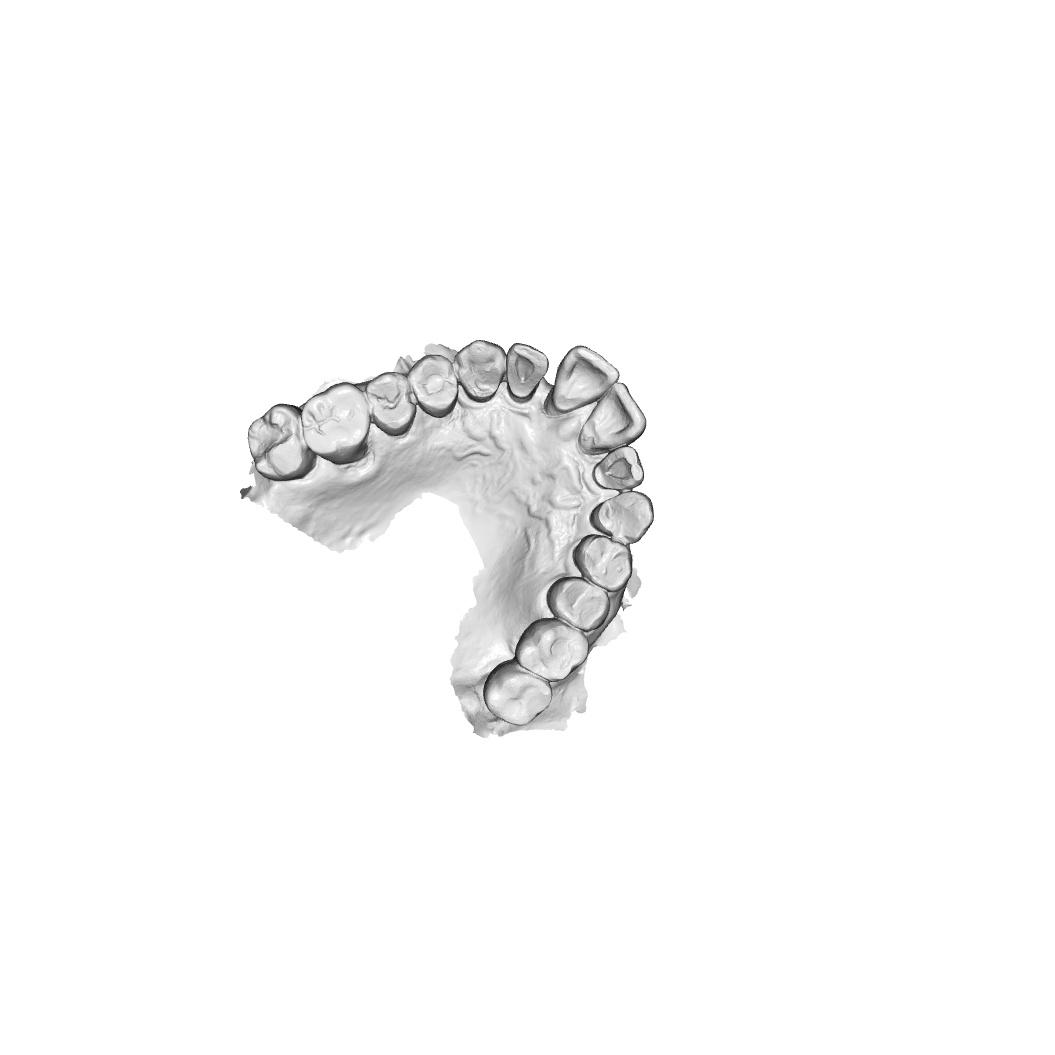canine: (589, 490, 656, 546), (453, 339, 508, 404)
incisor: (543, 344, 620, 418), (577, 380, 647, 457), (505, 342, 550, 404), (591, 444, 645, 491)
molar: (300, 381, 371, 466), (247, 403, 318, 482), (513, 617, 590, 683), (482, 658, 554, 726)
premolar: (545, 575, 612, 633), (571, 533, 634, 593), (364, 371, 418, 437), (407, 353, 459, 419)
